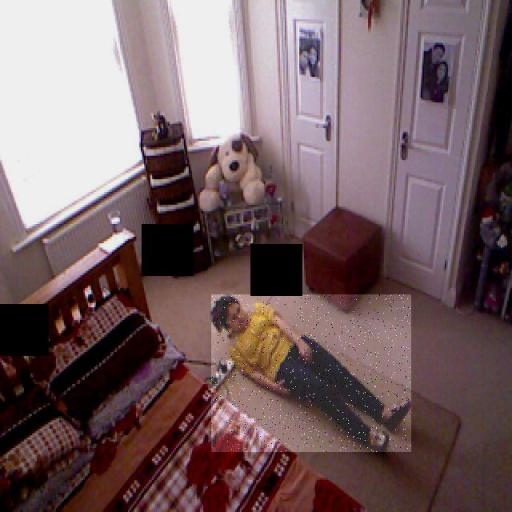Fall: (211, 294, 411, 452)
